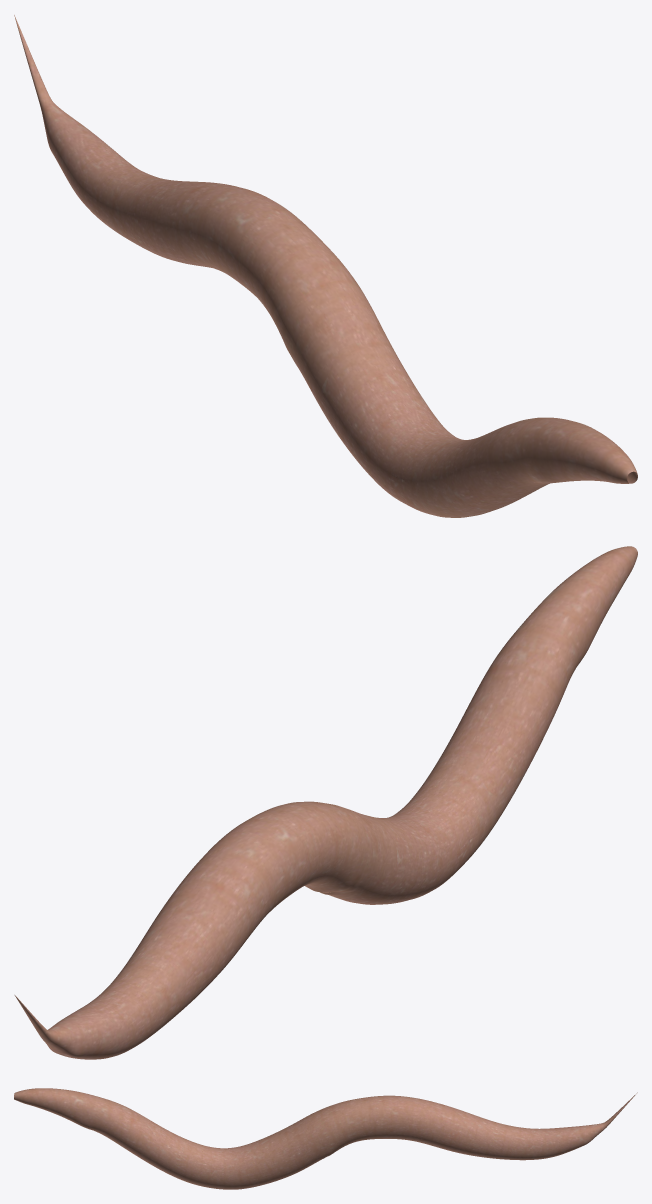
The model's file is Virtual_Worm_February_2012_mid.fbx.
The picture shows the model from 3 angles, top to bottom: view 1: azimuth 30°, elevation 25°; view 2: azimuth 150°, elevation 25°; view 3: azimuth 270°, elevation 25°; orthographic projection. The views are drawn at different scales.
Parts seen in each view (by area): view 1: Cuticle_mid; view 2: Cuticle_mid; view 3: Cuticle_mid.
Boxes of the visible parts, box(x1,y1,x2,y2) form: Cuticle_mid: box(14, 15, 637, 517); Cuticle_mid: box(14, 546, 637, 1059); Cuticle_mid: box(14, 1088, 637, 1189).
Size of the model in its own units: 141 by 816 by 61.32.
1 material, 1 textured.
